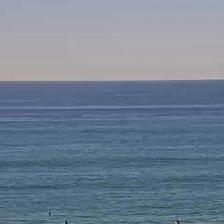surfer: (48, 210, 52, 216), (176, 219, 181, 223), (64, 220, 68, 223)
